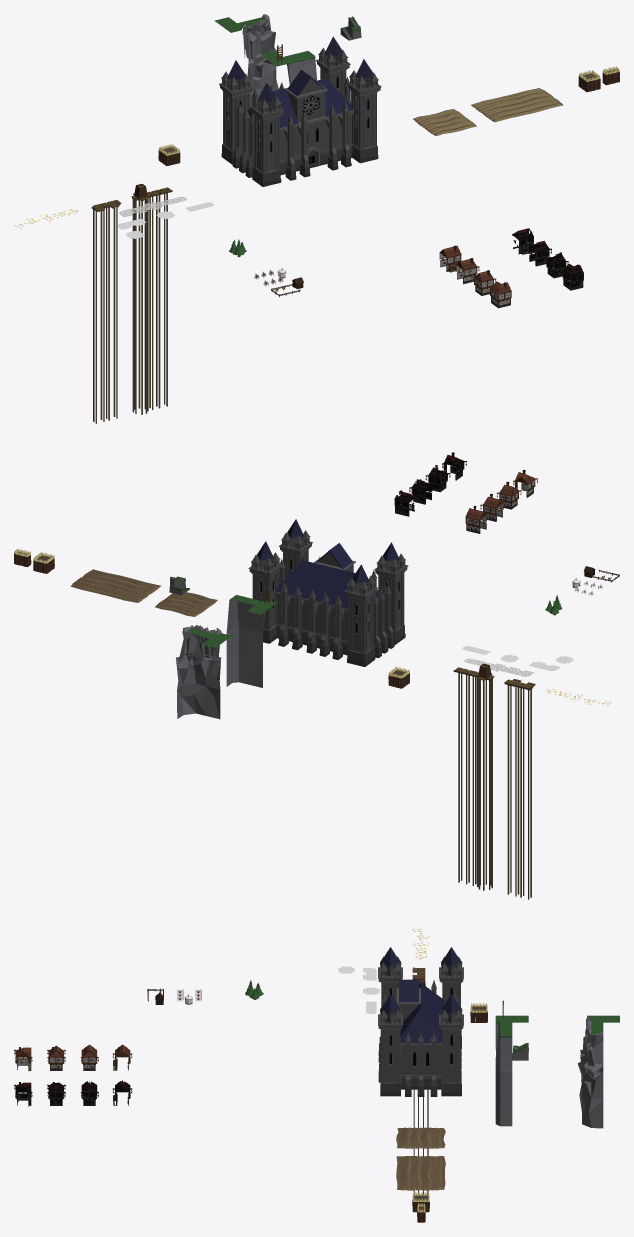
The model's file is plaguePack2.fbx.
3 renders of one model, top to bottom at view 1: azimuth 30°, elevation 25°; view 2: azimuth 150°, elevation 25°; view 3: azimuth 270°, elevation 25°, orthographic.
Visible parts, largest first — view 1: ратуша, Cube.007, Cube.009, Cube.012, Cube.006, Cube.015, Cube.008, Cube.013, Cube.024; view 2: ратуша, Cube.007, Cube.009, Cube.012, Cube.006, Cube.015, Cube.008, Cube.022, Cube.021, Cube.013, Cube.010, Cube.004 (+1 smaller); view 3: ратуша, Cube.015, Cube.008, Cube.021, Cube.022, Cube.019, Plane.026, Cube.004, Cube.010.
Part boxes in pixels (x1,y1,x2,y2): ратуша: (219, 36, 381, 186); Cube.007: (131, 193, 150, 414); Cube.009: (103, 200, 121, 420); Cube.012: (91, 203, 106, 423); Cube.006: (147, 189, 164, 409); Cube.015: (471, 88, 563, 122); Cube.008: (413, 109, 476, 136); Cube.013: (161, 187, 172, 406); Cube.024: (237, 20, 262, 59); ратуша: (248, 519, 408, 666); Cube.007: (476, 673, 494, 890); Cube.009: (504, 679, 521, 896); Cube.012: (518, 682, 535, 899); Cube.006: (461, 669, 478, 885); Cube.015: (70, 569, 161, 602); Cube.008: (155, 592, 217, 616); Cube.022: (177, 684, 206, 718); Cube.021: (175, 653, 206, 689); Cube.013: (453, 667, 465, 882); Cube.010: (226, 652, 248, 686); Cube.004: (226, 623, 248, 656); ратуша: (378, 947, 463, 1096); Cube.015: (396, 1156, 445, 1190); Cube.008: (396, 1127, 445, 1148); Cube.021: (580, 1056, 603, 1098); Cube.022: (582, 1094, 603, 1128); Cube.019: (583, 1026, 603, 1066); Plane.026: (496, 1029, 512, 1065); Cube.004: (495, 1060, 512, 1096); Cube.010: (495, 1094, 512, 1126).
Size of the model in its own units: 8357 by 4137 by 7311.
